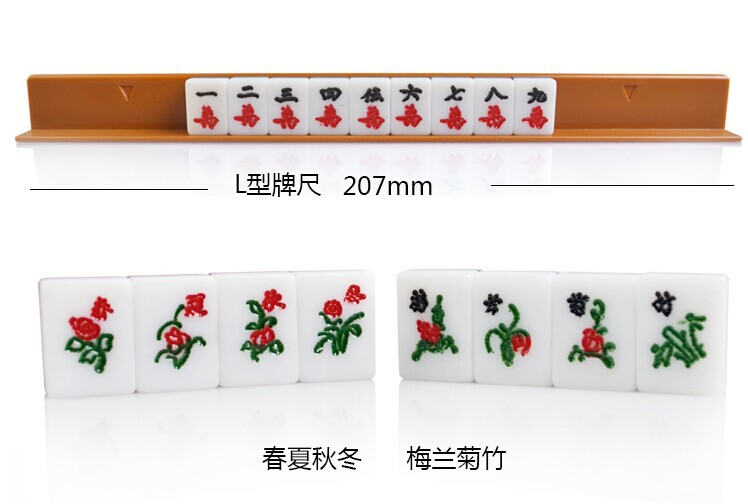1W: (188, 81, 225, 133)
2W: (232, 80, 263, 134)
3W: (270, 81, 302, 132)
4W: (315, 83, 346, 131)
5W: (357, 83, 386, 135)
6W: (396, 80, 426, 130)
7W: (438, 82, 470, 133)
8W: (479, 82, 511, 133)
9W: (520, 84, 549, 135)
